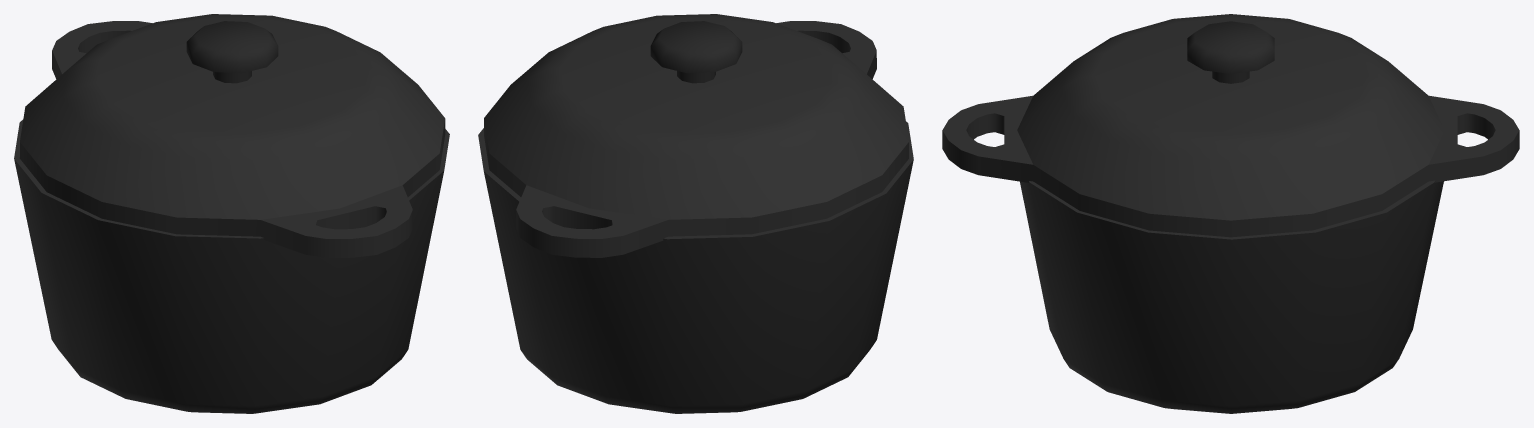
File: FrenchOven_01.fbx
3 views of the same model, side by side, from view 1: azimuth 30°, elevation 25°; view 2: azimuth 150°, elevation 25°; view 3: azimuth 270°, elevation 25° (orthographic).
Parts seen in each view (by area): view 1: FrenchOven_01_Lid, FrenchOven_01; view 2: FrenchOven_01_Lid, FrenchOven_01; view 3: FrenchOven_01_Lid, FrenchOven_01.
Boxes of the visible parts, left/top/right/bottom form: FrenchOven_01_Lid: left=19, top=14, right=445, bottom=257; FrenchOven_01: left=14, top=119, right=449, bottom=413; FrenchOven_01_Lid: left=484, top=14, right=908, bottom=257; FrenchOven_01: left=478, top=121, right=913, bottom=413; FrenchOven_01_Lid: left=942, top=14, right=1519, bottom=237; FrenchOven_01: left=1020, top=180, right=1443, bottom=413.
Size of the model in its own units: 0.3932 by 0.3088 by 0.5176.
